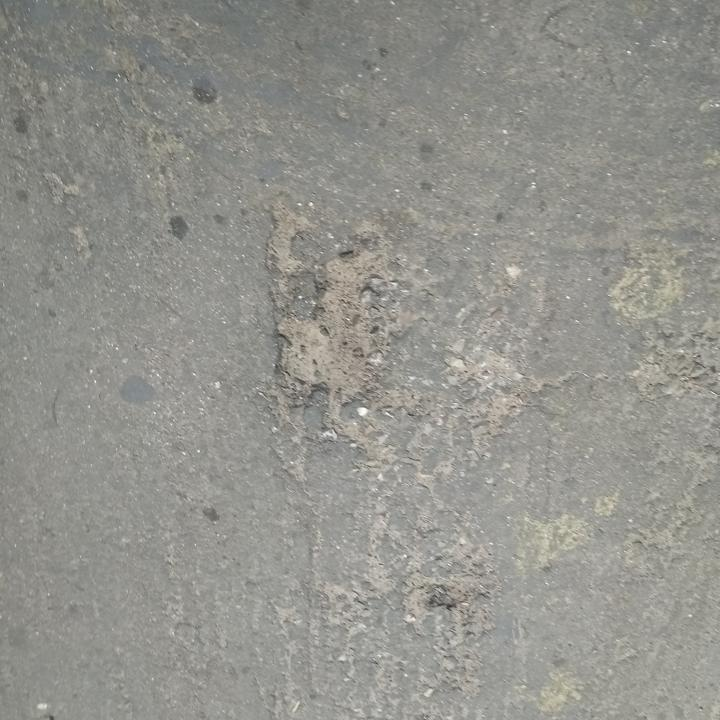pothole: (259, 215, 414, 411), (424, 577, 486, 613)
